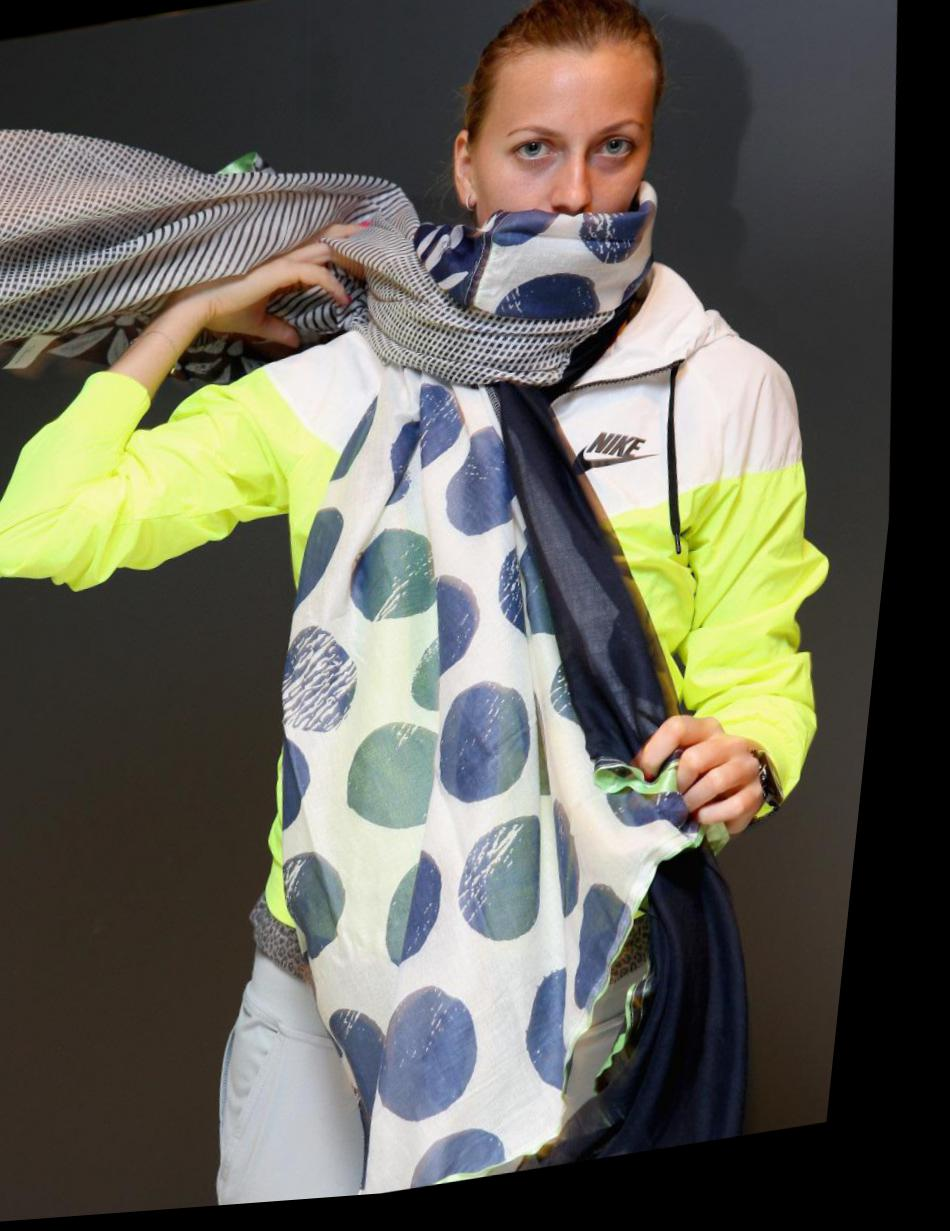WRONG: (462, 108, 671, 312)
